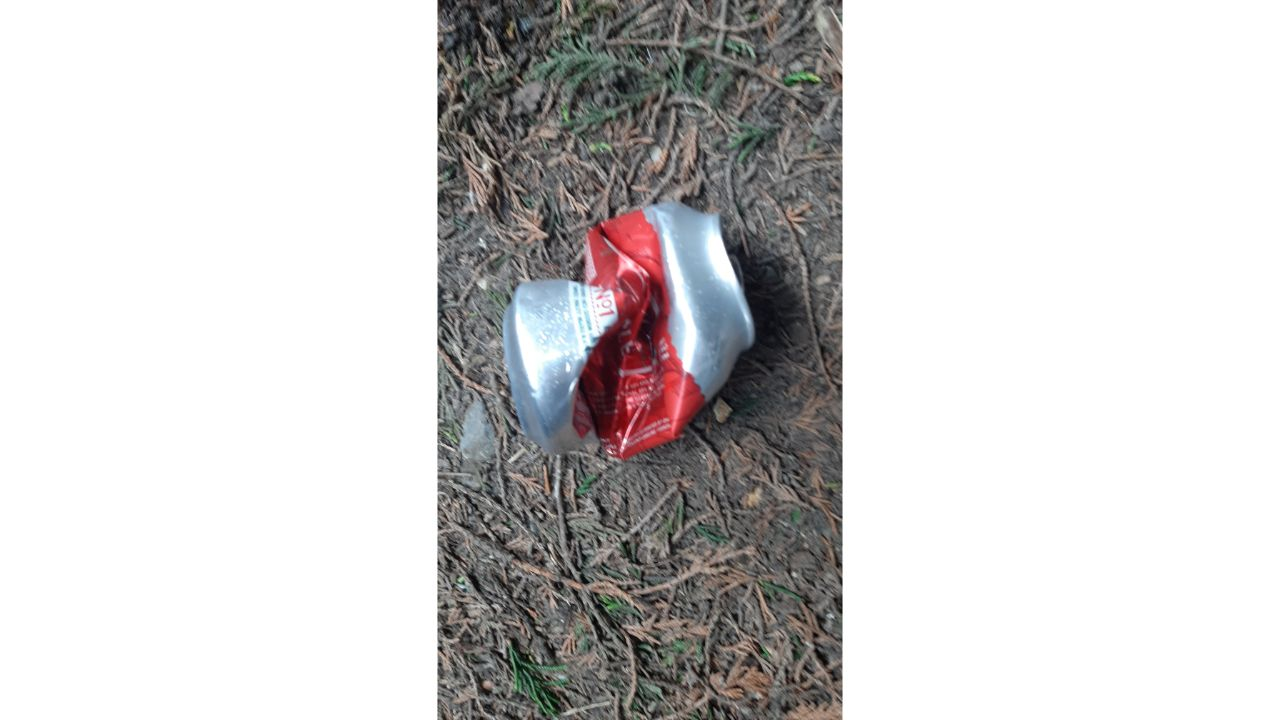Can: (501, 200, 760, 457)
